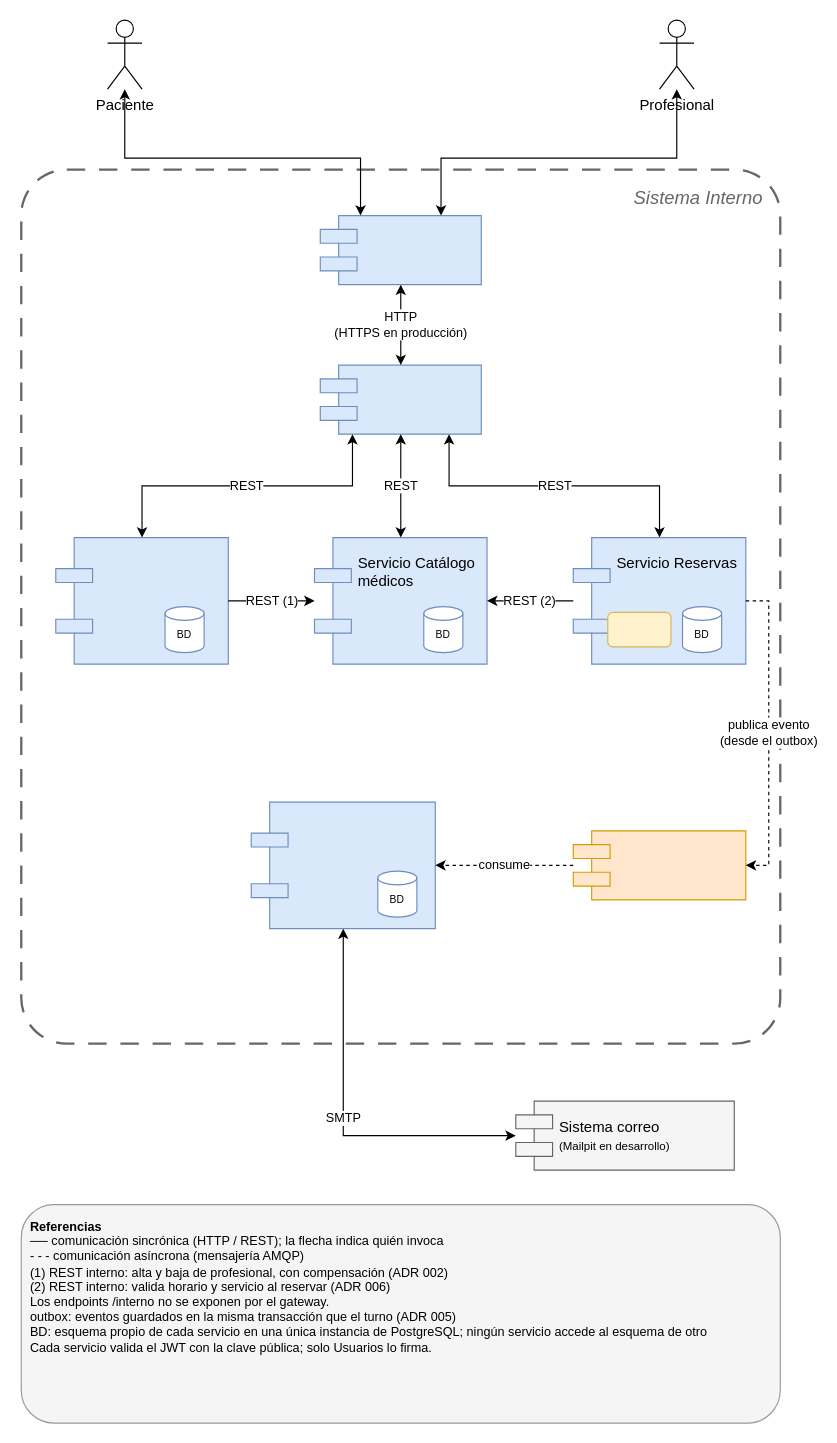
This 837x1443 diagram has some shape labels left out. Here are the shapes that lost their labels. From the top down, the box of each, then its label:
(319, 214, 481, 285): Cliente web
(319, 364, 481, 434): API Gateway (Traefik)
(55, 536, 228, 664): Servicio Usuarios & Auth
(607, 611, 671, 647): outbox
(250, 801, 435, 929): Servicio Notificaciones
(572, 830, 746, 900): RabbitMQ
